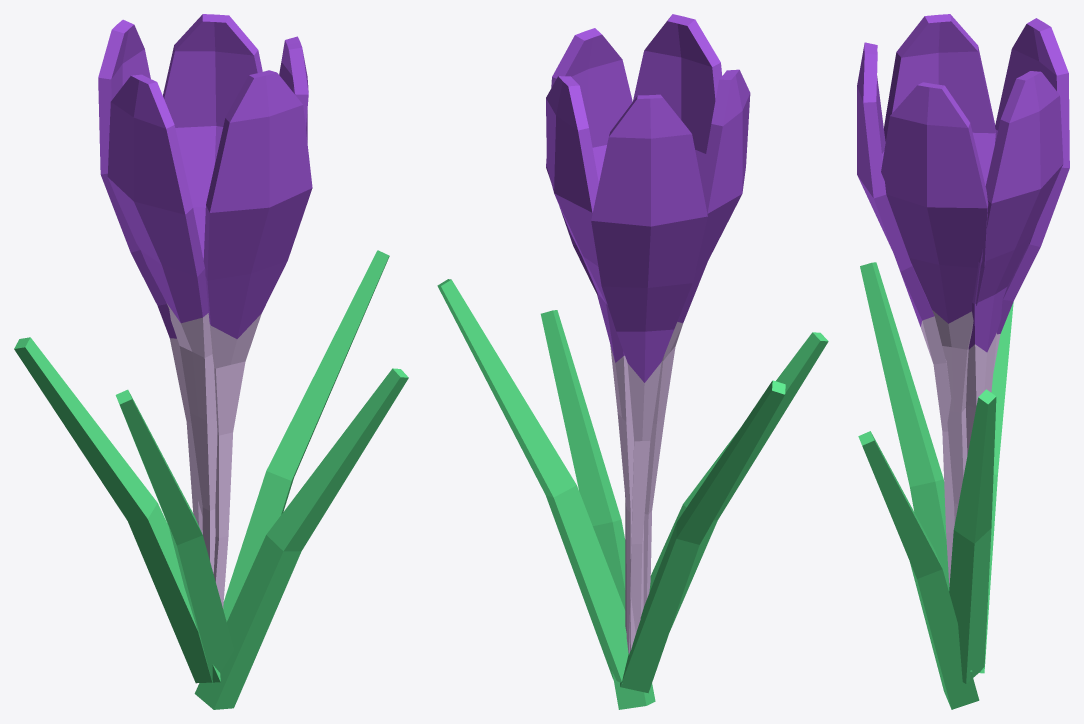
File: winterPlant2.fbx
The picture shows the model from 3 angles, left to right: view 1: azimuth 30°, elevation 25°; view 2: azimuth 150°, elevation 25°; view 3: azimuth 270°, elevation 25°; orthographic projection.
Parts seen in each view (by area): view 1: WinterPlant1; view 2: WinterPlant1; view 3: WinterPlant1.
Boxes of the visible parts, x1,y1,x2,y2 form: WinterPlant1: (14, 14, 408, 709); WinterPlant1: (437, 14, 828, 709); WinterPlant1: (857, 14, 1069, 709).
Size of the model in its own units: 436 by 764 by 225.
